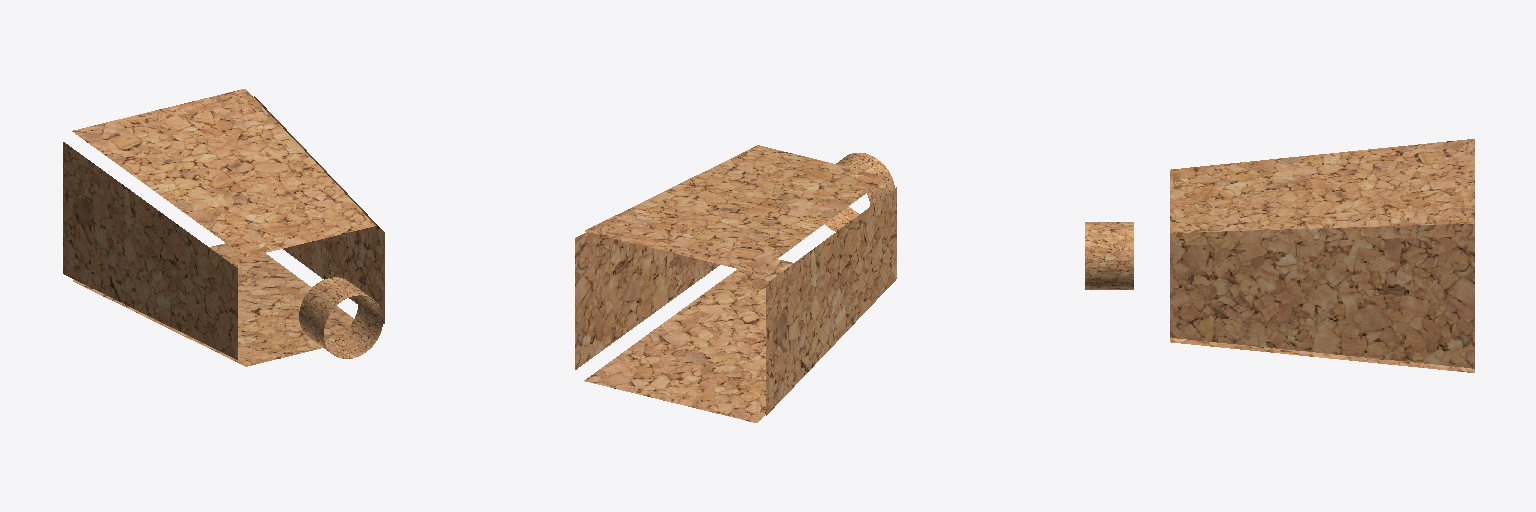
The picture shows the model from 3 angles: view 1: azimuth 30°, elevation 25°; view 2: azimuth 150°, elevation 25°; view 3: azimuth 270°, elevation 25°; orthographic projection.
Bounding box in the file's own units: 0.4431 × 0.3334 × 0.7865.
1 materials, 1 textured.